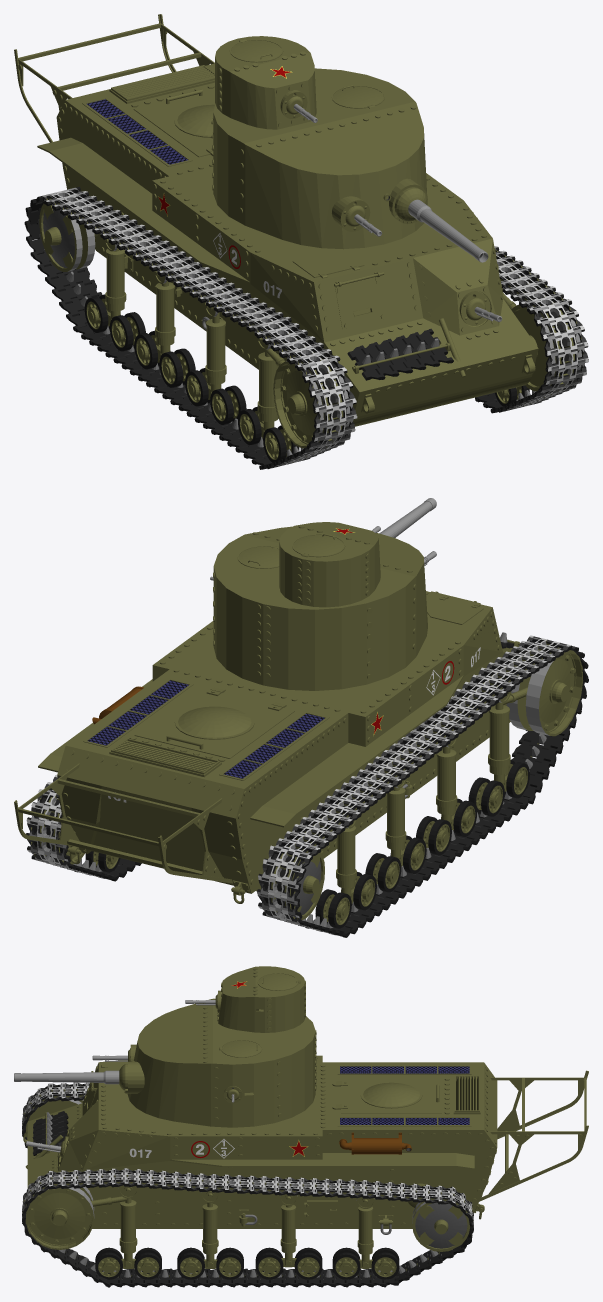
3 renders of one model, top to bottom at view 1: azimuth 30°, elevation 25°; view 2: azimuth 150°, elevation 25°; view 3: azimuth 270°, elevation 25°, orthographic. The views are drawn at different scales.
Parts seen in each view (by area): view 1: _G-Object (Loose Mesh), _G-Object.423 (Loose Mesh), _G-Object.421 (Loose Mesh), C-Componente#29, _G-Object.550 (Loose Mesh), _G-Object.568 (Loose Mesh), C-radiador.001, _G-Object.005 (Loose Mesh), _G-Object.557 (Loose Mesh), _G-Object.526 (Loose Mesh), _G-Object.012 (Loose Mesh), _G-Object.561 (Loose Mesh) (+27 smaller); view 2: _G-Object (Loose Mesh), _G-Object.423 (Loose Mesh), C-Componente#29, _G-Object.421 (Loose Mesh), _G-Object.550 (Loose Mesh), _G-Object.012 (Loose Mesh), _G-Object.005 (Loose Mesh), C-radiador.001, C-radiador, _G-Object.553 (Loose Mesh), _G-Object.557 (Loose Mesh), _G-Object.561 (Loose Mesh) (+20 smaller); view 3: _G-Object (Loose Mesh), _G-Object.423 (Loose Mesh), _G-Object.421 (Loose Mesh), C-Componente#29, _G-Object.526 (Loose Mesh), _G-Object.544 (Loose Mesh), _G-Object.005 (Loose Mesh), _G-Object.012 (Loose Mesh), C-radiador, C-radiador.001, G-Object.515, _G-Object.529 (Loose Mesh) (+16 smaller).
Boxes of the visible parts, left/top/right/bottom form: _G-Object (Loose Mesh): left=37, top=63, right=538, bottom=426; _G-Object.423 (Loose Mesh): left=213, top=68, right=427, bottom=249; _G-Object.421 (Loose Mesh): left=215, top=36, right=316, bottom=129; C-Componente#29: left=133, top=89, right=215, bottom=157; _G-Object.550 (Loose Mesh): left=273, top=356, right=350, bottom=448; _G-Object.568 (Loose Mesh): left=39, top=203, right=98, bottom=271; C-radiador.001: left=82, top=97, right=192, bottom=166; _G-Object.005 (Loose Mesh): left=58, top=14, right=214, bottom=90; _G-Object.557 (Loose Mesh): left=205, top=312, right=226, bottom=398; _G-Object.526 (Loose Mesh): left=511, top=300, right=581, bottom=391; _G-Object.012 (Loose Mesh): left=14, top=31, right=126, bottom=142; _G-Object.561 (Loose Mesh): left=155, top=280, right=175, bottom=359; _G-Object (Loose Mesh): left=38, top=591, right=520, bottom=893; _G-Object.423 (Loose Mesh): left=213, top=526, right=427, bottom=690; C-Componente#29: left=134, top=686, right=294, bottom=758; _G-Object.421 (Loose Mesh): left=279, top=522, right=380, bottom=607; _G-Object.550 (Loose Mesh): left=506, top=650, right=583, bottom=736; _G-Object.012 (Loose Mesh): left=52, top=798, right=232, bottom=883; _G-Object.005 (Loose Mesh): left=14, top=763, right=200, bottom=852; C-radiador.001: left=219, top=711, right=329, bottom=780; C-radiador: left=83, top=678, right=193, bottom=747; _G-Object.553 (Loose Mesh): left=488, top=702, right=510, bottom=790; _G-Object.557 (Loose Mesh): left=436, top=746, right=457, bottom=829; _G-Object.561 (Loose Mesh): left=385, top=787, right=406, bottom=864; _G-Object (Loose Mesh): left=23, top=1055, right=497, bottom=1228; _G-Object.423 (Loose Mesh): left=127, top=998, right=315, bottom=1127; _G-Object.421 (Loose Mesh): left=218, top=966, right=305, bottom=1032; C-Componente#29: left=332, top=1077, right=441, bottom=1113; _G-Object.526 (Loose Mesh): left=25, top=1186, right=94, bottom=1249; _G-Object.544 (Loose Mesh): left=412, top=1201, right=469, bottom=1251; _G-Object.005 (Loose Mesh): left=479, top=1078, right=588, bottom=1201; _G-Object.012 (Loose Mesh): left=490, top=1070, right=588, bottom=1172; C-radiador: left=337, top=1116, right=471, bottom=1126; C-radiador.001: left=337, top=1065, right=471, bottom=1074; G-Object.515: left=14, top=1070, right=119, bottom=1084; _G-Object.529 (Loose Mesh): left=113, top=1198, right=143, bottom=1268.
Size of the model in its own units: 0.99 by 1.1 by 2.33.
Materials: 13 (1 with a texture image).
